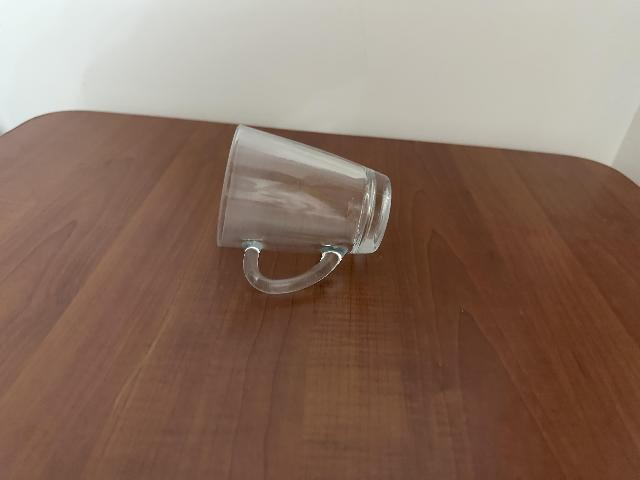Cam: (219, 122, 398, 300)
